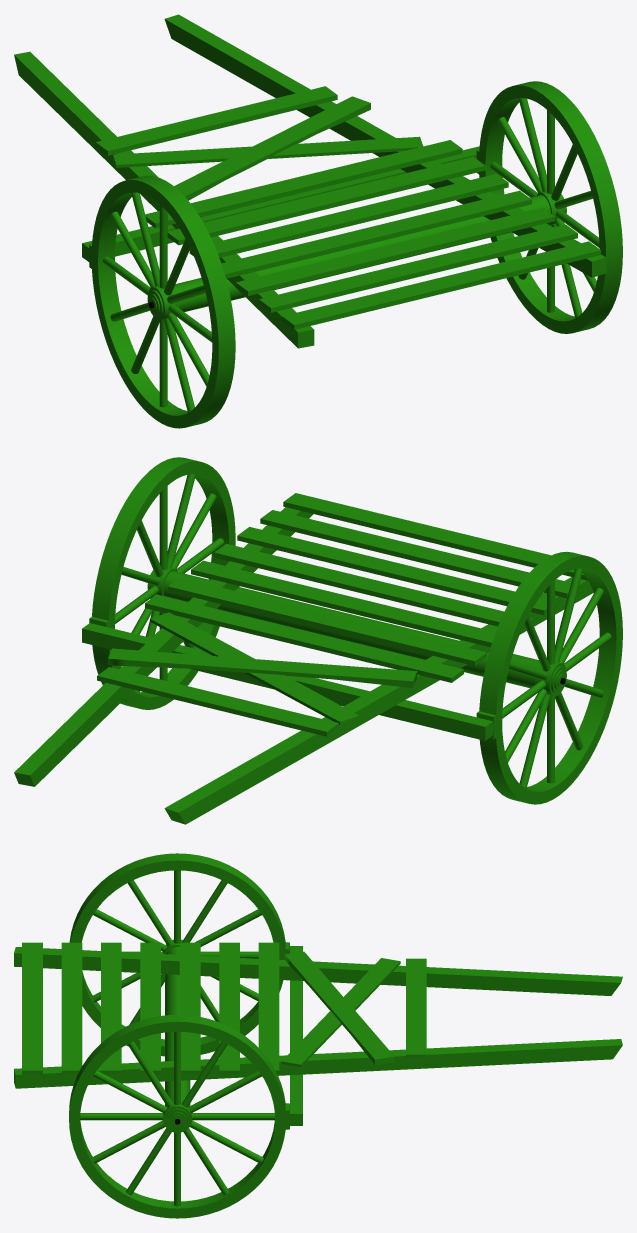
The model's file is karrettun.fbx.
3 renders of one model, top to bottom at view 1: azimuth 30°, elevation 25°; view 2: azimuth 150°, elevation 25°; view 3: azimuth 270°, elevation 25°, orthographic. The views are drawn at different scales.
Parts seen in each view (by area): view 1: Cylinder; view 2: Cylinder; view 3: Cylinder.
Part boxes in pixels (<box>): Cylinder: <box>14,14,622,428</box>; Cylinder: <box>14,457,622,824</box>; Cylinder: <box>14,853,622,1218</box>.
Size of the model in its own units: 375 by 200 by 561.
